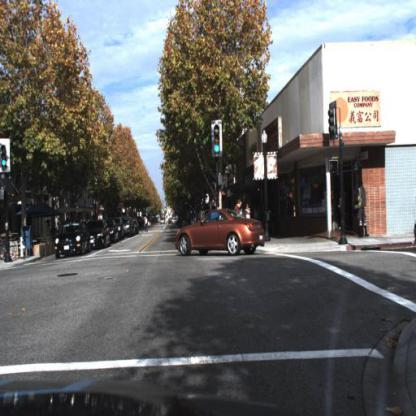car: (175, 207, 269, 258), (55, 218, 87, 260), (89, 219, 112, 250), (110, 220, 120, 243)
pedestrian: (356, 180, 371, 241), (234, 201, 245, 218), (143, 216, 149, 233)
trafficLight: (211, 122, 225, 160)
